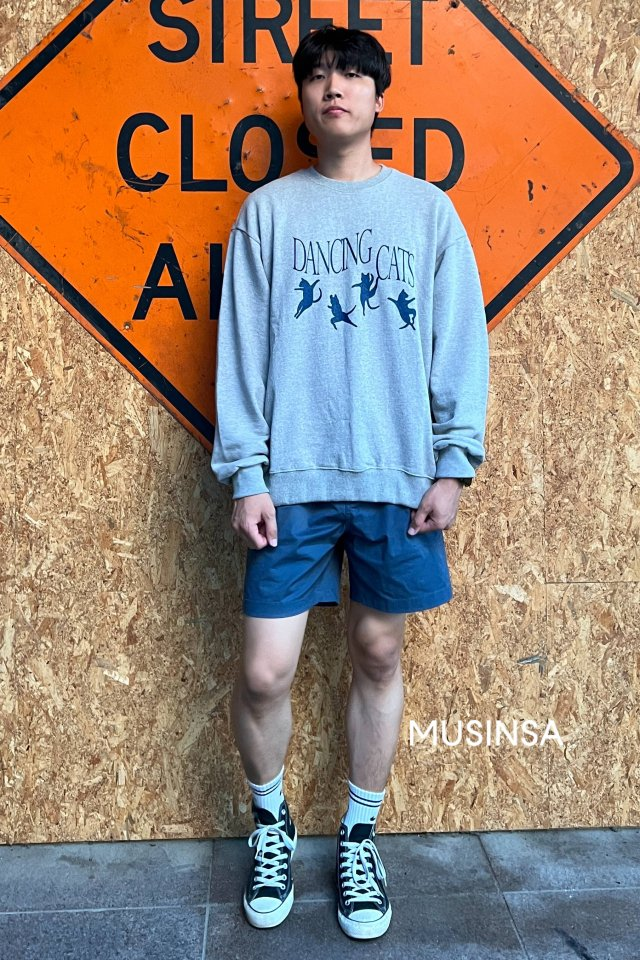Shoes: (240, 805, 400, 950)
Shorts: (235, 508, 461, 620)
Sweatshirt: (196, 163, 493, 513)
